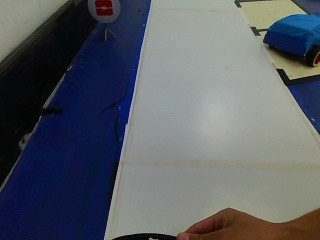car: (258, 11, 318, 69)
company: (84, 0, 123, 26)
